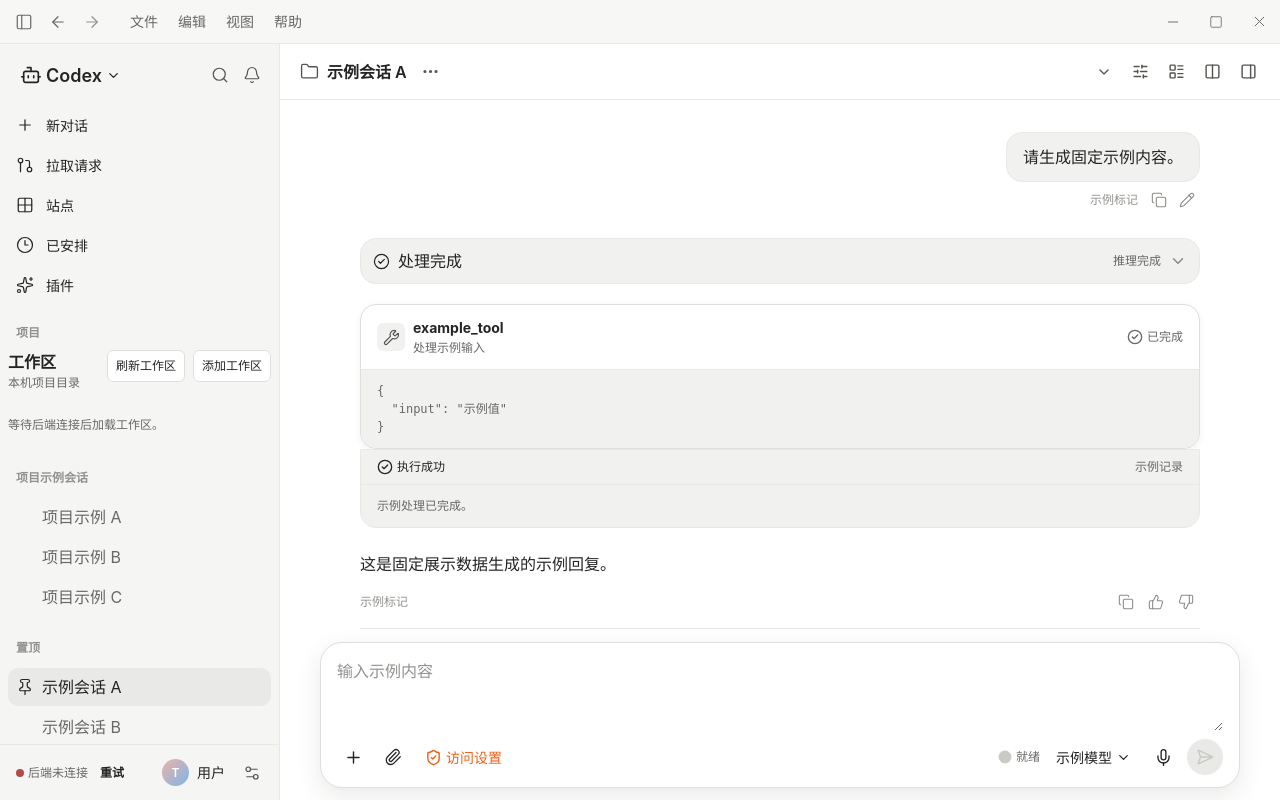
Scenario: M02 regression › covers Checking, Disconnected, Retry, Connected, compact Sidebar, and safe UI output
The width and height of the screenshot is (1280, 800).
expect the text "后端未连接" is shown: met, box [28,765,88,780]
Click the button named "切换侧边栏" at coordinates (24, 22), box [8,6,40,36]
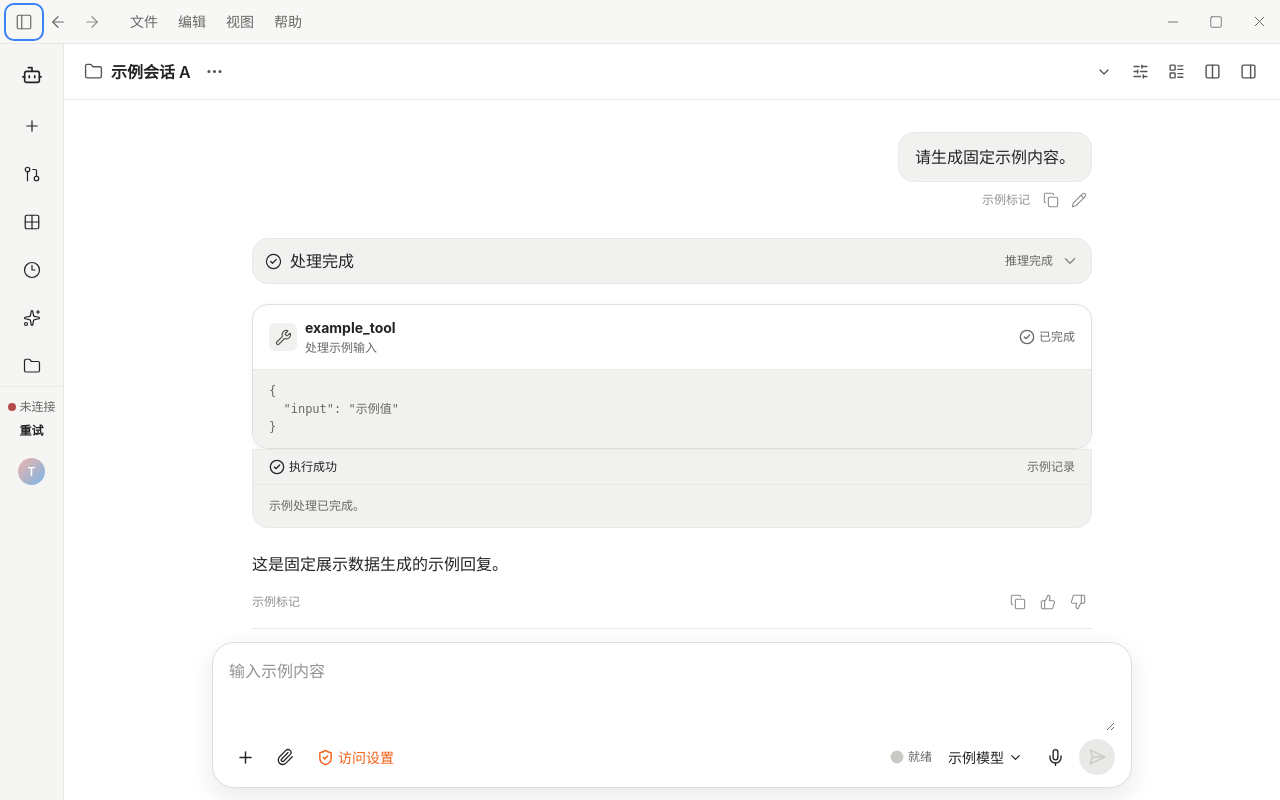
expect the element named "后端连接状态：后端未连接" is shown: met, box [8,395,55,446]
Click the button with aria-label "重试连接后端" at coordinates (32, 430), box [16,418,48,442]
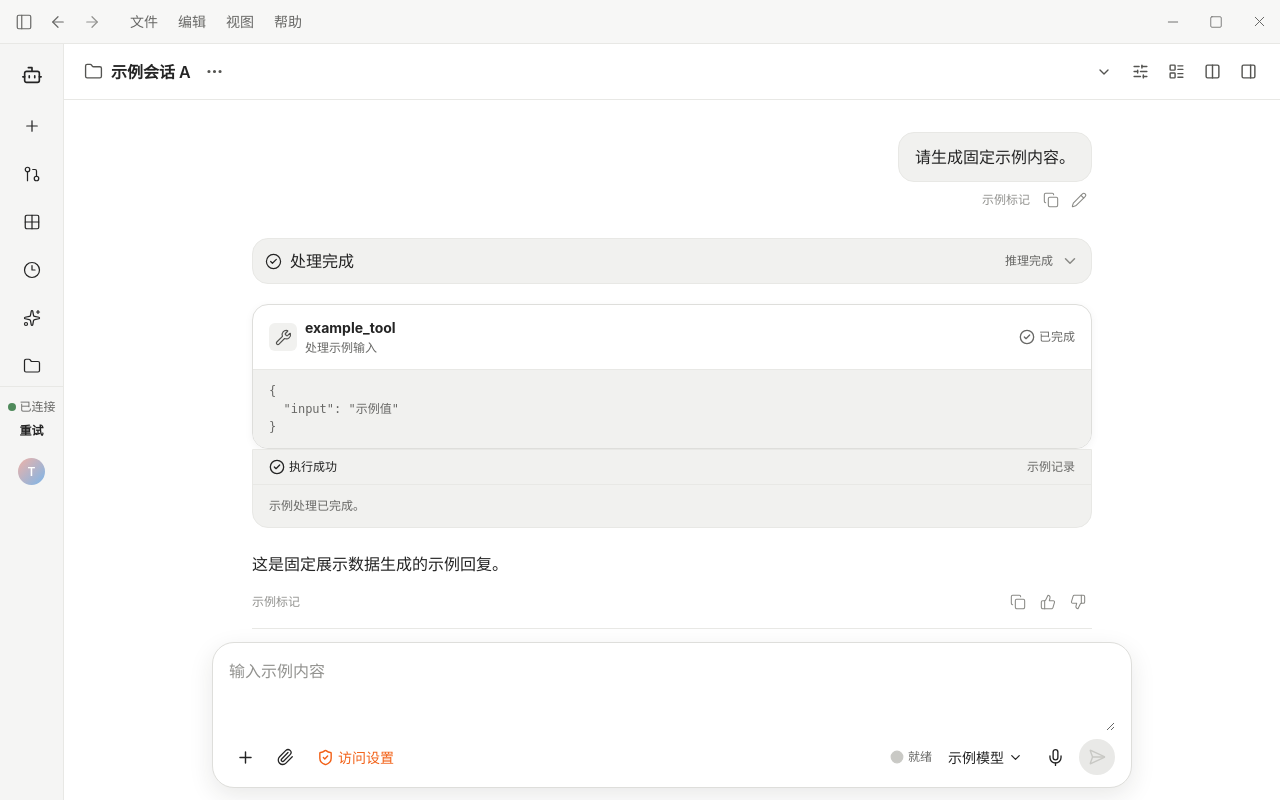
expect the text "已连接" is shown: met, box [20,399,56,414]
